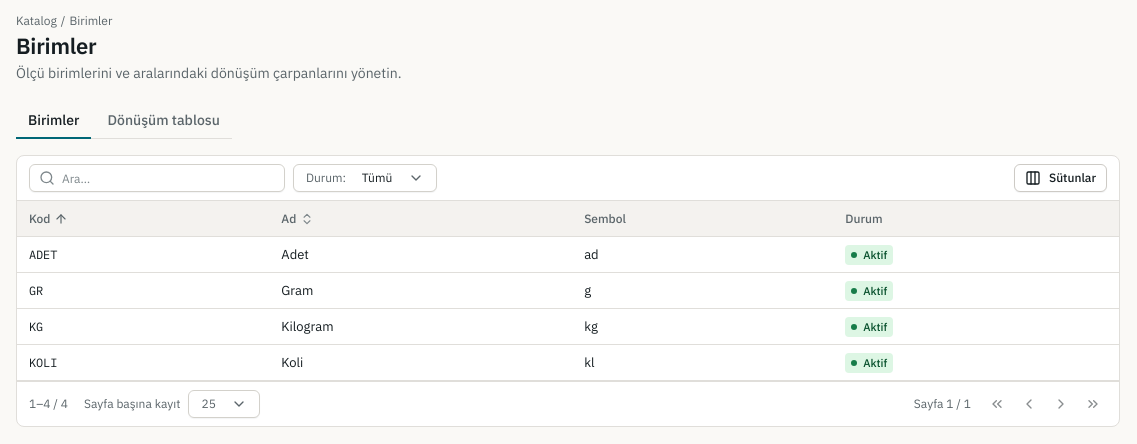
catalog setup pages for readers › lets an item viewer read units and conversions without any write action
Expected: the text "Kilogram" is shown, [269,309,572,345]
Click the tab "Dönüşüm tablosu".
click(164, 121)  # box [96,103,232,139]
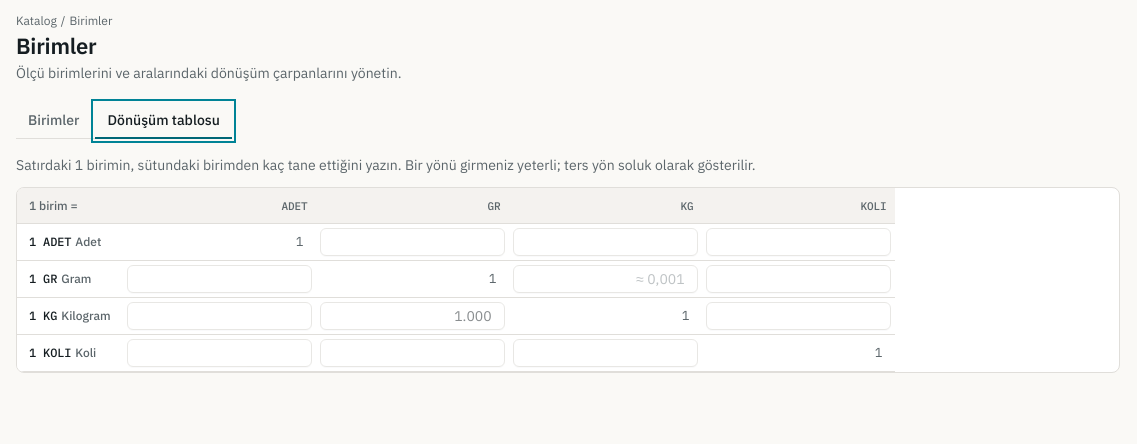
Now the field named "1 ADET kaç GR" is disabled, box [320,228,505,256]
Now the field named "1 ADET kaç KG" is disabled, box [513,228,698,256]
Now the field named "1 ADET kaç KOLI" is disabled, box [706,228,891,256]
